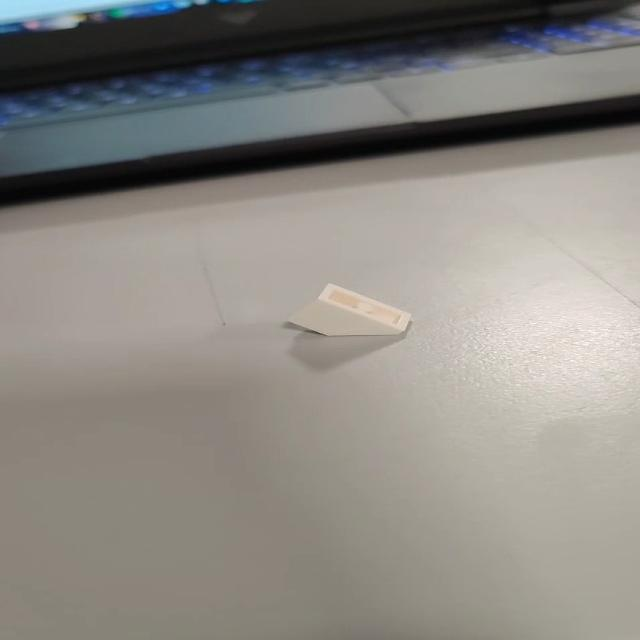P1x2x1: (283, 282, 417, 342)
